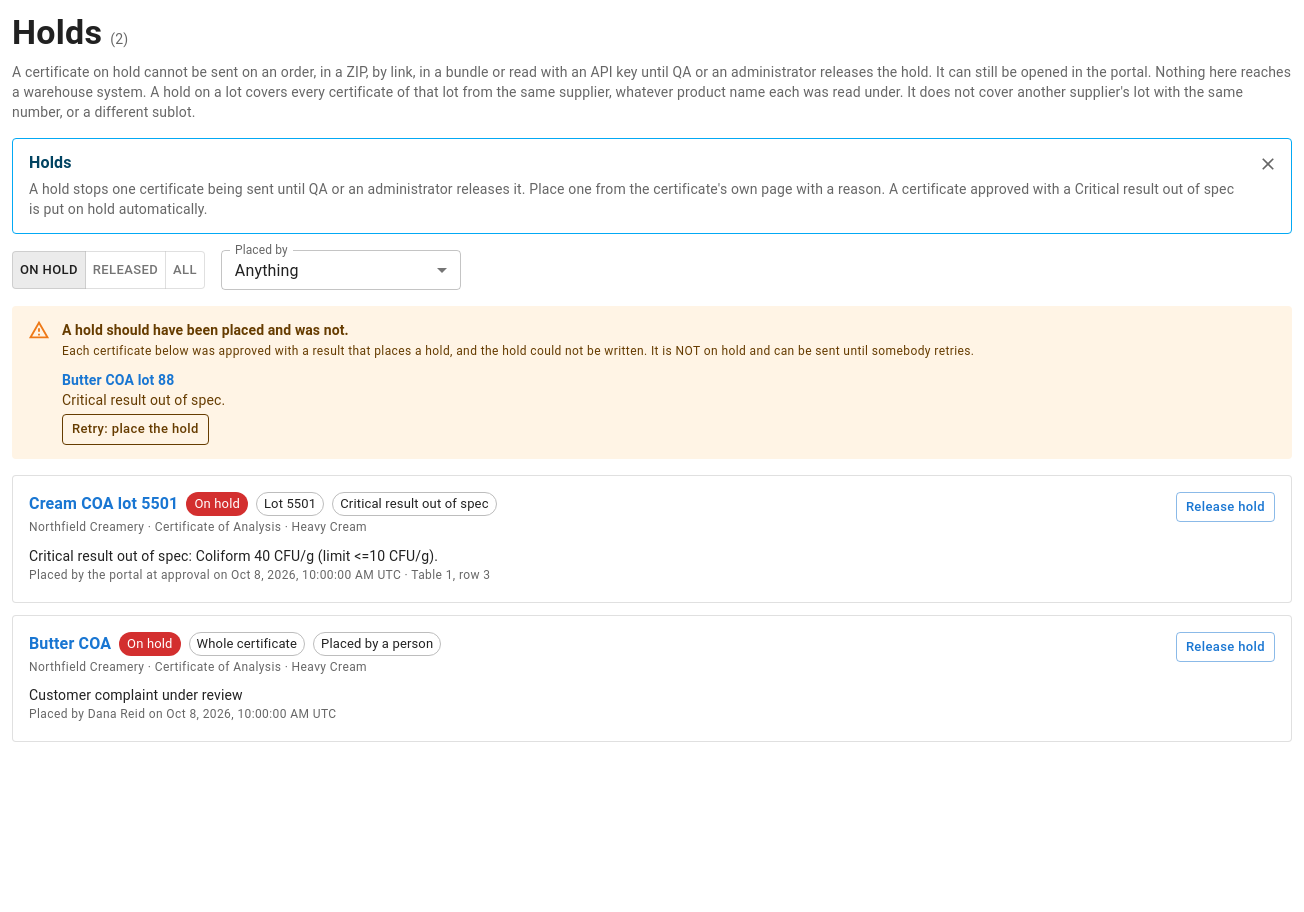
it: Holds page › a retry of a hold that was placed and since RELEASED says so, and does not claim the certificate is on hold (C-092)
Click the button with test id "holds-failure-retry": x=135, y=429 x1=62 y1=414 x2=209 y2=445
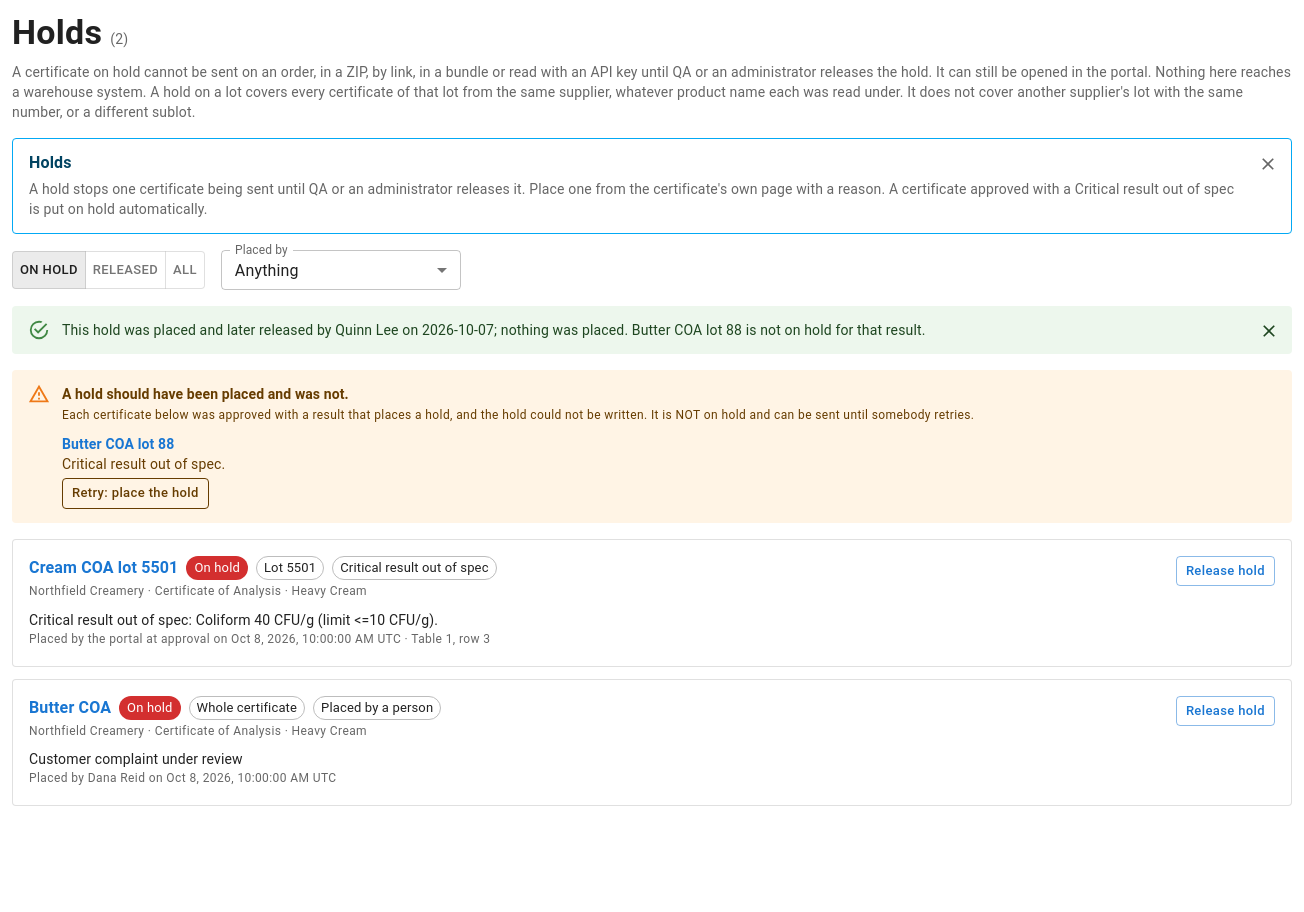
expect the message with test id "holds-notice" does not show "is now on hold": met, box x1=12 y1=306 x2=1292 y2=354
expect the message with test id "holds-notice" shows "This hold was placed and later released by Quinn Lee on 2026-10-07; nothing was placed. Butter COA lot 88 is not on hold for that result.": met, box x1=62 y1=322 x2=926 y2=338
